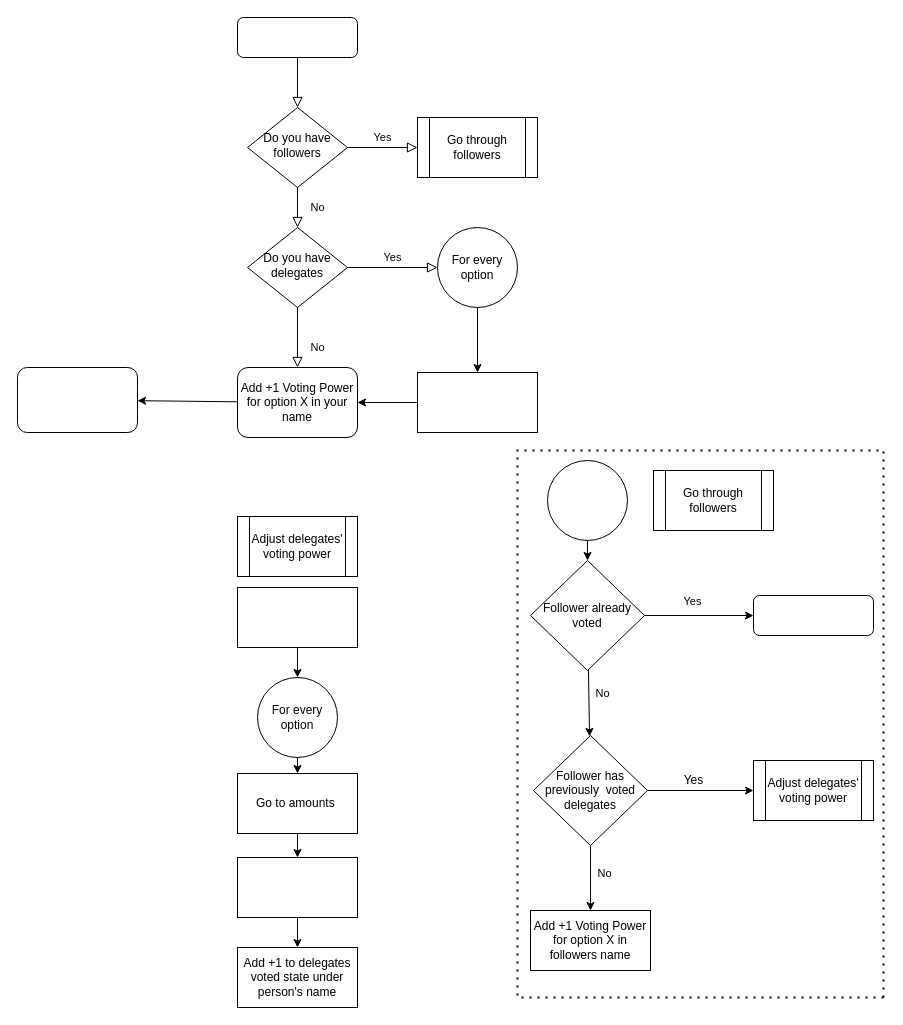
The diagram is 903 pixels wide and 1025 high, and some of its shapes have lost their labels. Each missing label, with the box of its shape:
Change delegates voted state to "CASTED" for your name: (16, 366, 138, 432)
Do nothing: (752, 594, 874, 636)
For every follower: (546, 460, 628, 540)
Multiply current voting power by N/(N + 1): (236, 856, 358, 918)
N = number of delegates already voted in this person's name: (236, 586, 358, 648)
Set voting power amounts in your name to 0: (416, 372, 538, 432)
You cast your vote for option X: (236, 16, 358, 58)
